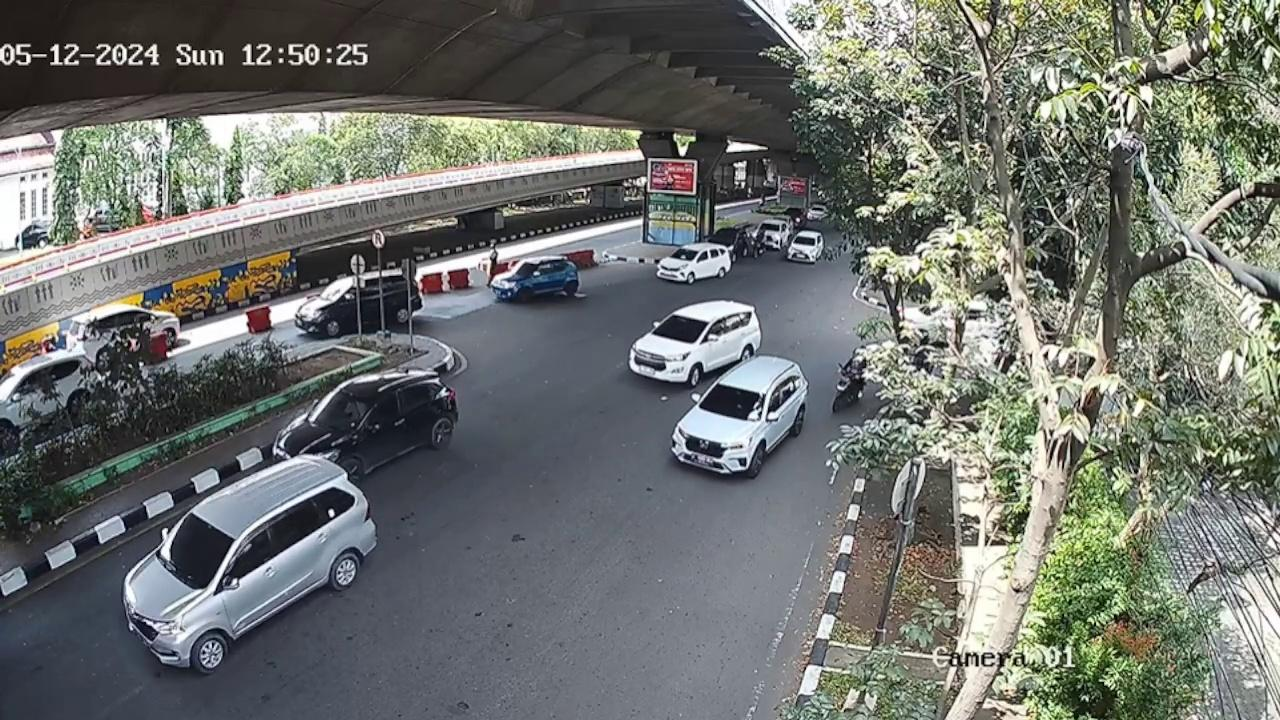windshield: (158, 516, 235, 582), (703, 377, 764, 421), (312, 389, 372, 433), (652, 313, 705, 347)
